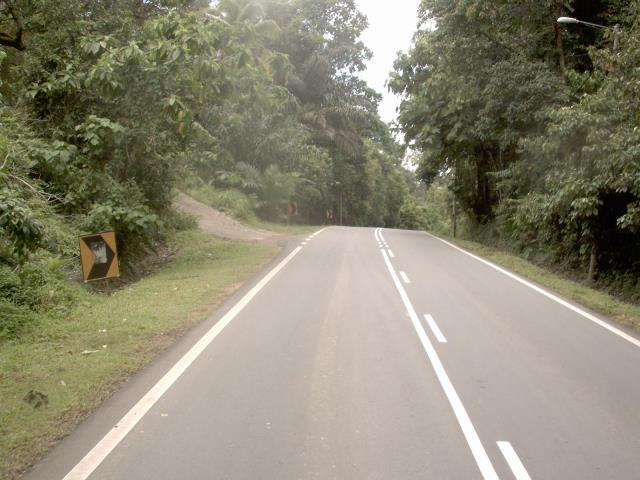traffic_sign: (73, 224, 127, 293)
